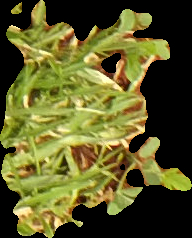grass: (1, 1, 191, 236)
